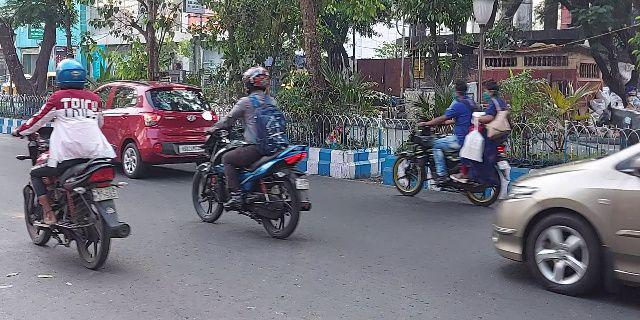Car: (492, 136, 640, 296), (93, 78, 217, 180)
Motorbike: (185, 64, 315, 246), (23, 56, 132, 270), (388, 78, 513, 207)
